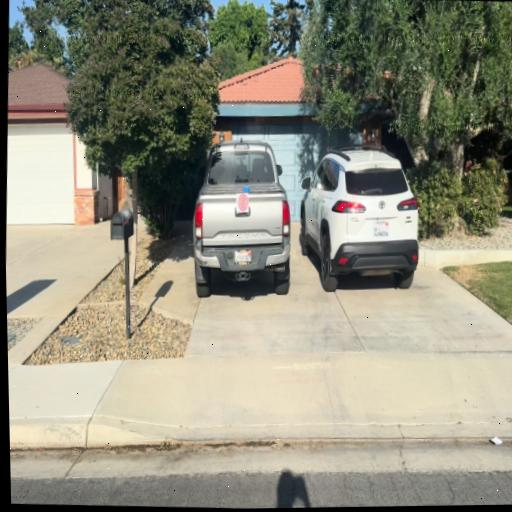bullseye: (237, 192, 248, 212)
